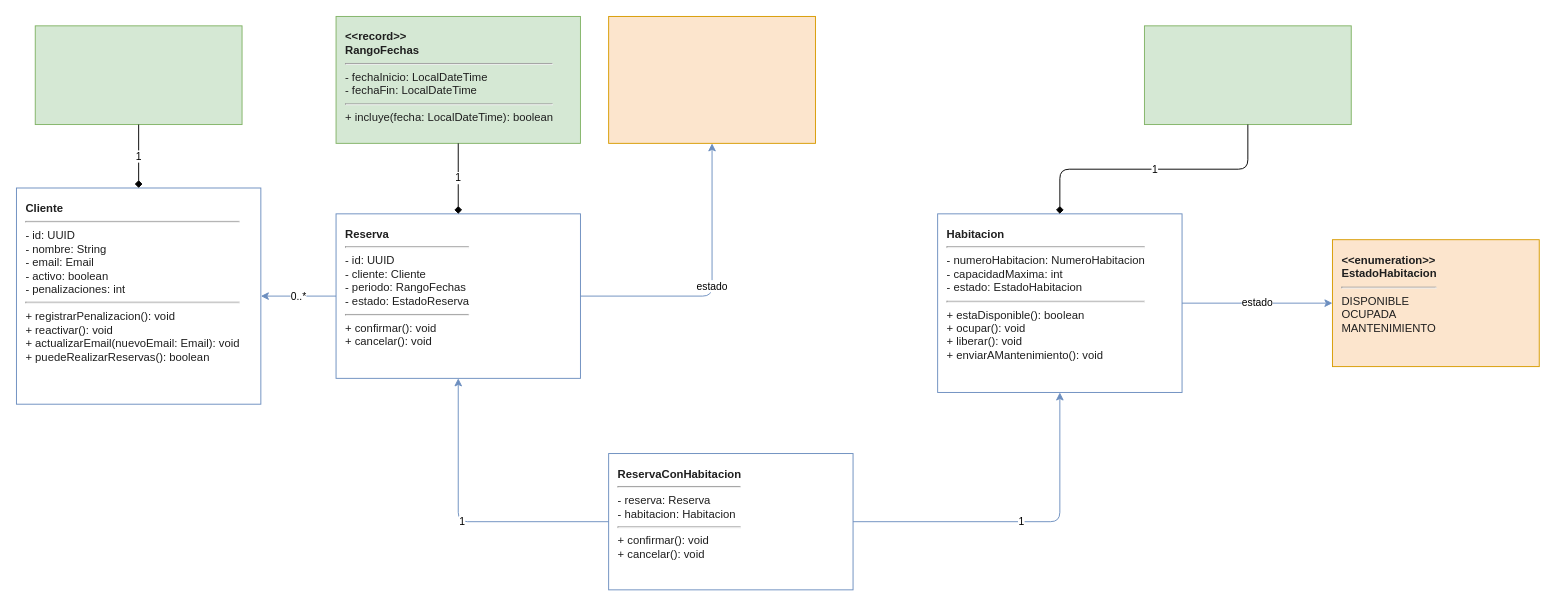
This 1556x606 diagram has some shape labels left out. Each missing label, with the box of its shape:
<<enumeration>> EstadoReserva PENDIENTE CONFIRMADA CANCELADA: (608, 16, 815, 143)
<<record>> Email - valor: String: (34, 25, 242, 125)
<<record>> NumeroHabitacion - valor: String: (1144, 25, 1351, 125)
